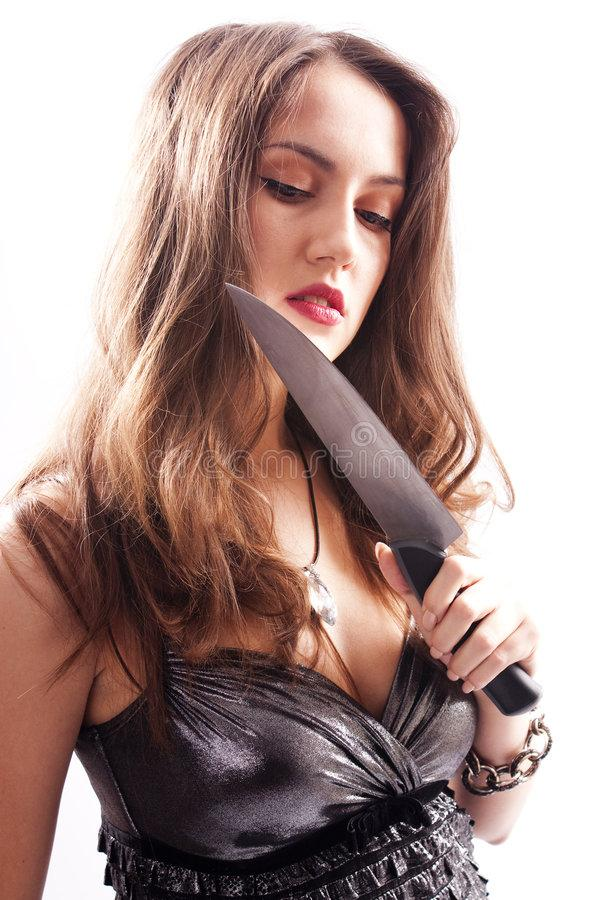criminal: (0, 18, 552, 900)
weapon: (220, 276, 543, 717)
